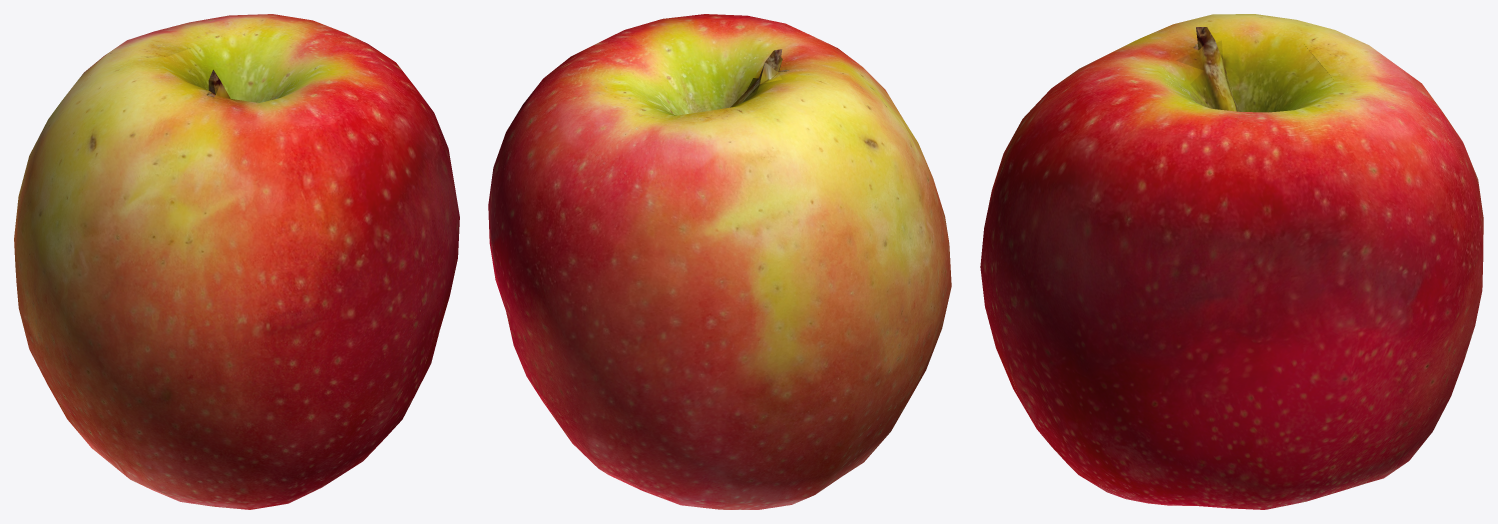
The model's file is apple.glb.
3 renders of one model, left to right at view 1: azimuth 30°, elevation 25°; view 2: azimuth 150°, elevation 25°; view 3: azimuth 270°, elevation 25°, orthographic. The views are drawn at different scales.
Parts seen in each view (by area): view 1: Object_2; view 2: Object_2; view 3: Object_2.
Boxes of the visible parts, bbox=[...] form: Object_2: bbox=[14, 14, 459, 509]; Object_2: bbox=[488, 14, 951, 509]; Object_2: bbox=[980, 14, 1483, 509].
Bounding box in the file's own units: 0.5001 × 0.5263 × 0.5336.
Materials: 1 (1 with a texture image).
